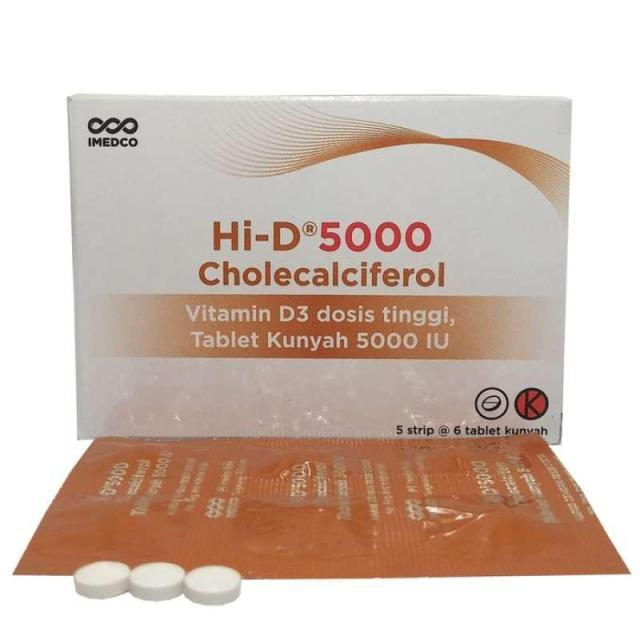drug-name: (208, 216, 436, 256)
